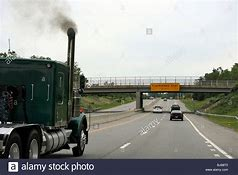smoke: (17, 1, 78, 35)
